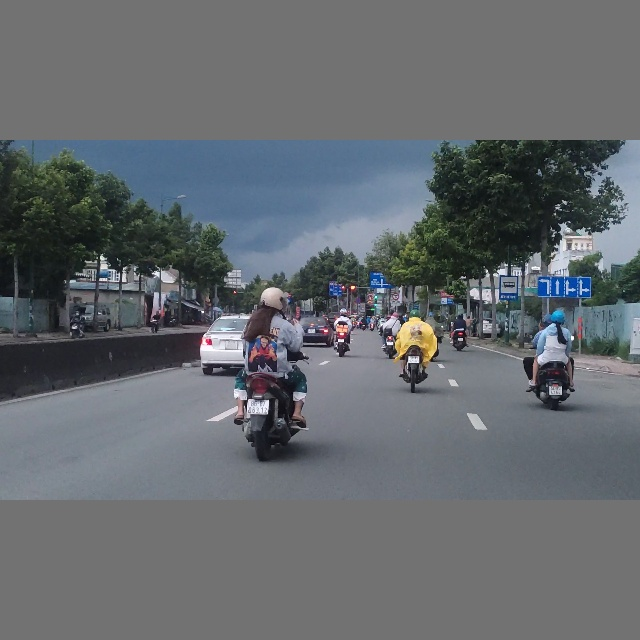I.434a: (500, 275, 518, 300)
P.137: (393, 293, 399, 300)
